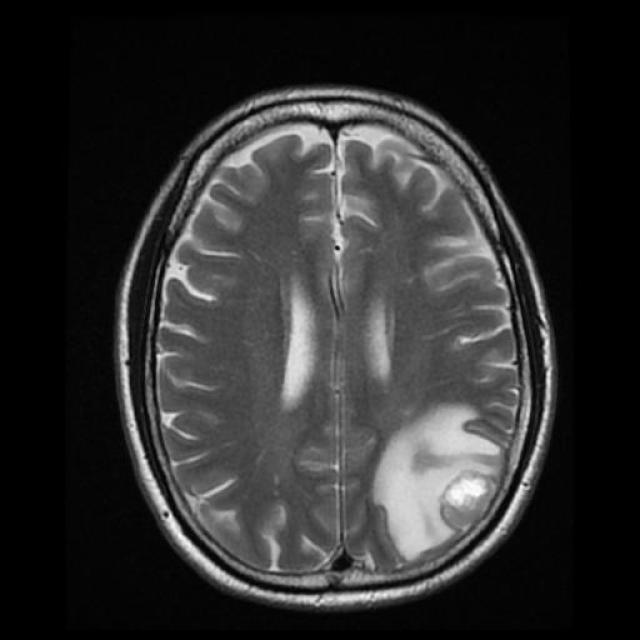Tumor-Cell: (363, 384, 517, 553)
